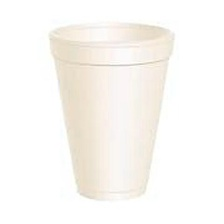paper_cup: (43, 13, 180, 207)
